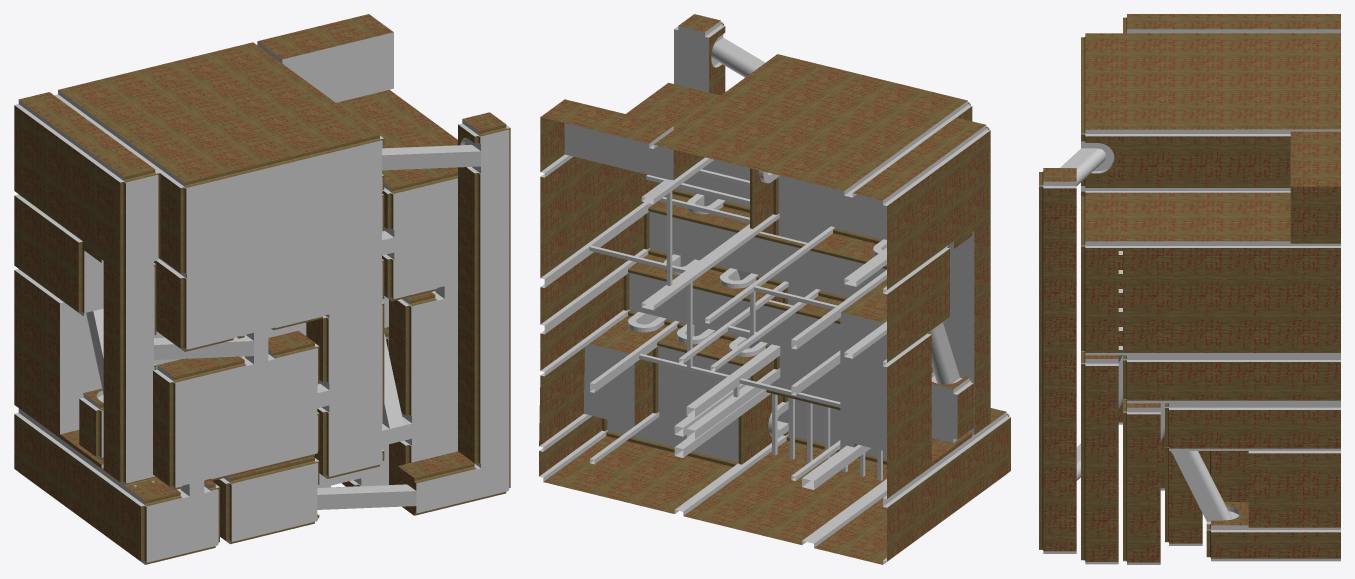
The model's file is fortress2.fbx.
The picture shows the model from 3 angles, left to right: view 1: azimuth 30°, elevation 25°; view 2: azimuth 150°, elevation 25°; view 3: azimuth 270°, elevation 25°; orthographic projection. The views are drawn at different scales.
Parts seen in each view (by area): view 1: Plane; view 2: Plane; view 3: Plane.
Boxes of the visible parts, x1,y1,x2,y2 form: Plane: (14,14,510,564); Plane: (539,14,1010,564); Plane: (1039,14,1340,564).
Size of the model in its own units: 100 by 102 by 72.
